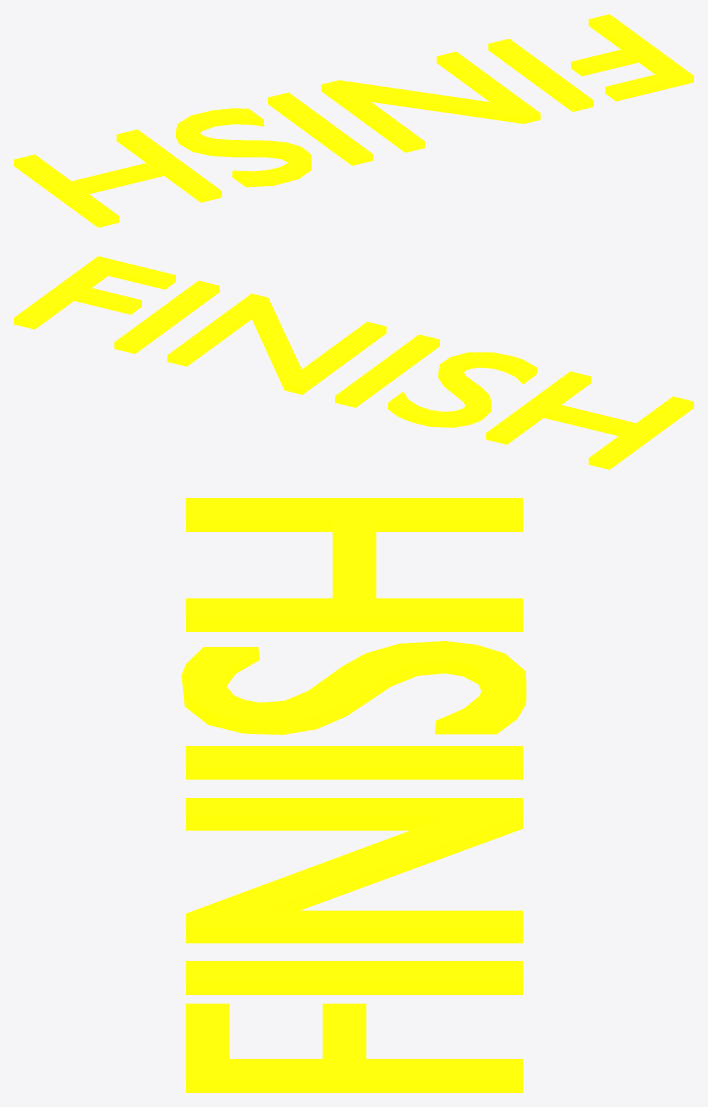
The model's file is Finish.fbx.
The picture shows the model from 3 angles, top to bottom: view 1: azimuth 30°, elevation 25°; view 2: azimuth 150°, elevation 25°; view 3: azimuth 270°, elevation 25°; orthographic projection. The views are drawn at different scales.
Visible parts, largest first — view 1: Finish; view 2: Finish; view 3: Finish.
Boxes of the visible parts, x1,y1,x2,y2 form: Finish: [14, 14, 693, 227]; Finish: [14, 256, 693, 469]; Finish: [181, 498, 526, 1092].
Bounding box in the file's own units: 1629 × 17.55 × 408.
